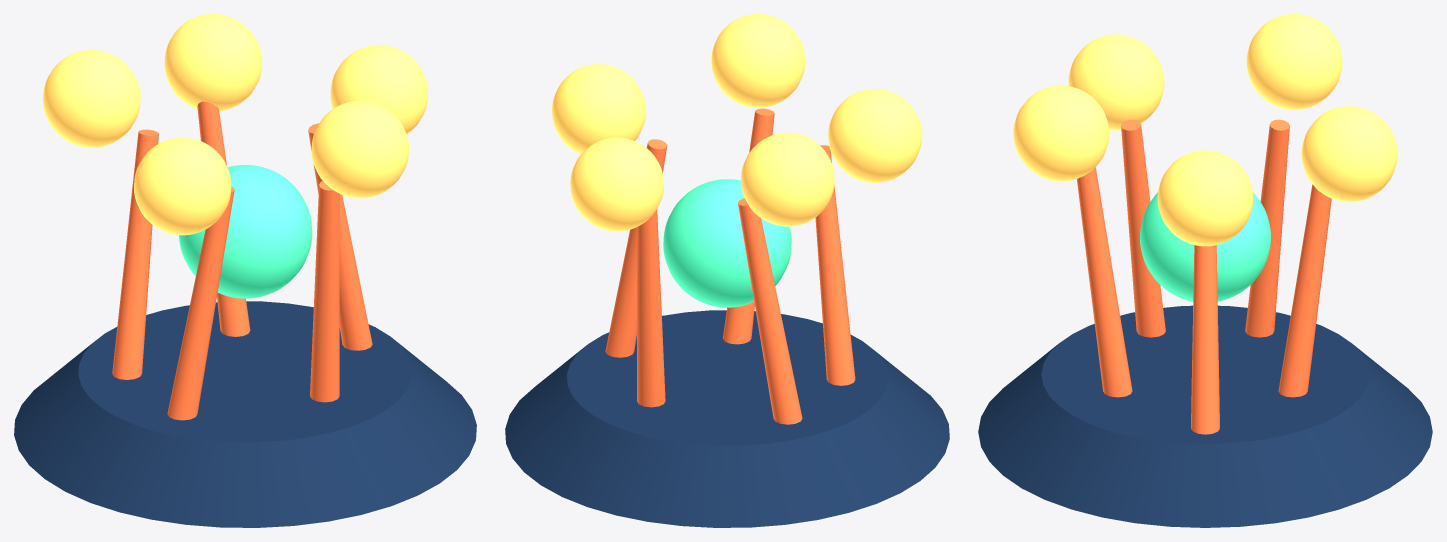
File: orb-garden.glb
3 views of the same model, side by side, from view 1: azimuth 30°, elevation 25°; view 2: azimuth 150°, elevation 25°; view 3: azimuth 270°, elevation 25° (orthographic). The views are drawn at different scales.
Parts seen in each view (by area): view 1: OrbGarden, centerOrb, orb1, orb3, orb2, orb4, orb0; view 2: OrbGarden, centerOrb, orb4, orb2, orb3, orb1, orb0; view 3: OrbGarden, orb0, orb1, orb4, orb3, centerOrb, orb2.
Boxes of the visible parts, x1=… form: OrbGarden: x1=14, y1=101, x2=476, y2=527; centerOrb: x1=179, y1=165, x2=312, y2=298; orb1: x1=311, y1=100, x2=408, y2=198; orb3: x1=43, y1=50, x2=140, y2=147; orb2: x1=134, y1=137, x2=231, y2=235; orb4: x1=164, y1=14, x2=261, y2=111; orb0: x1=330, y1=45, x2=427, y2=133; OrbGarden: x1=505, y1=108, x2=949, y2=527; centerOrb: x1=663, y1=179, x2=791, y2=307; orb4: x1=570, y1=137, x2=663, y2=231; orb2: x1=828, y1=89, x2=921, y2=182; orb3: x1=741, y1=132, x2=834, y2=226; orb1: x1=711, y1=14, x2=805, y2=107; orb0: x1=552, y1=64, x2=645, y2=154; OrbGarden: x1=978, y1=119, x2=1432, y2=527; orb0: x1=1157, y1=150, x2=1253, y2=246; orb1: x1=1013, y1=85, x2=1109, y2=181; orb4: x1=1301, y1=106, x2=1397, y2=201; orb3: x1=1246, y1=14, x2=1342, y2=109; centerOrb: x1=1140, y1=192, x2=1270, y2=301; orb2: x1=1068, y1=34, x2=1164, y2=130.
Size of the model in its own units: 3.6 by 3.16 by 3.6.
